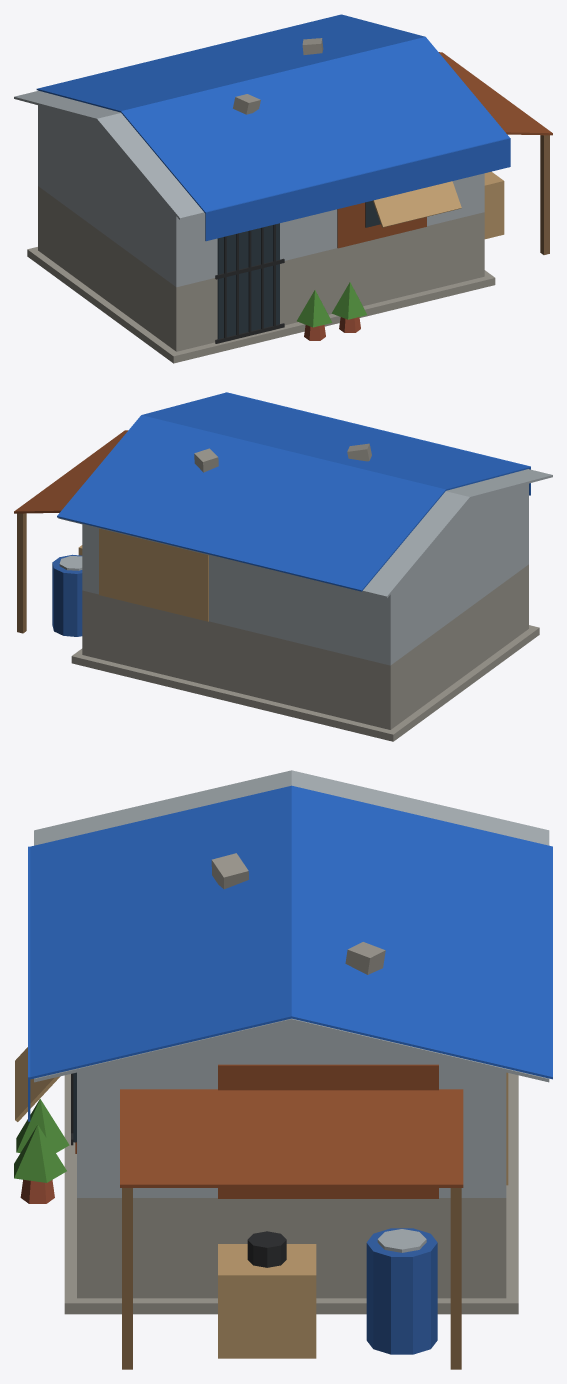
Rendered from BAY_I_TarpShack_C.glb.
The picture shows the model from 3 angles, top to bottom: view 1: azimuth 30°, elevation 25°; view 2: azimuth 150°, elevation 25°; view 3: azimuth 270°, elevation 25°; orthographic projection. The views are drawn at different scales.
Parts seen in each view (by area): view 1: BAY_I_TarpShack_C; view 2: BAY_I_TarpShack_C; view 3: BAY_I_TarpShack_C.
Part boxes in pixels (box(x1,y1,x2,y2)): BAY_I_TarpShack_C: box(14, 14, 552, 363); BAY_I_TarpShack_C: box(14, 392, 552, 741); BAY_I_TarpShack_C: box(14, 770, 552, 1369).
Size of the model in its own units: 5.85 by 2.76 by 4.39.
Materials: 1 (1 with a texture image).
